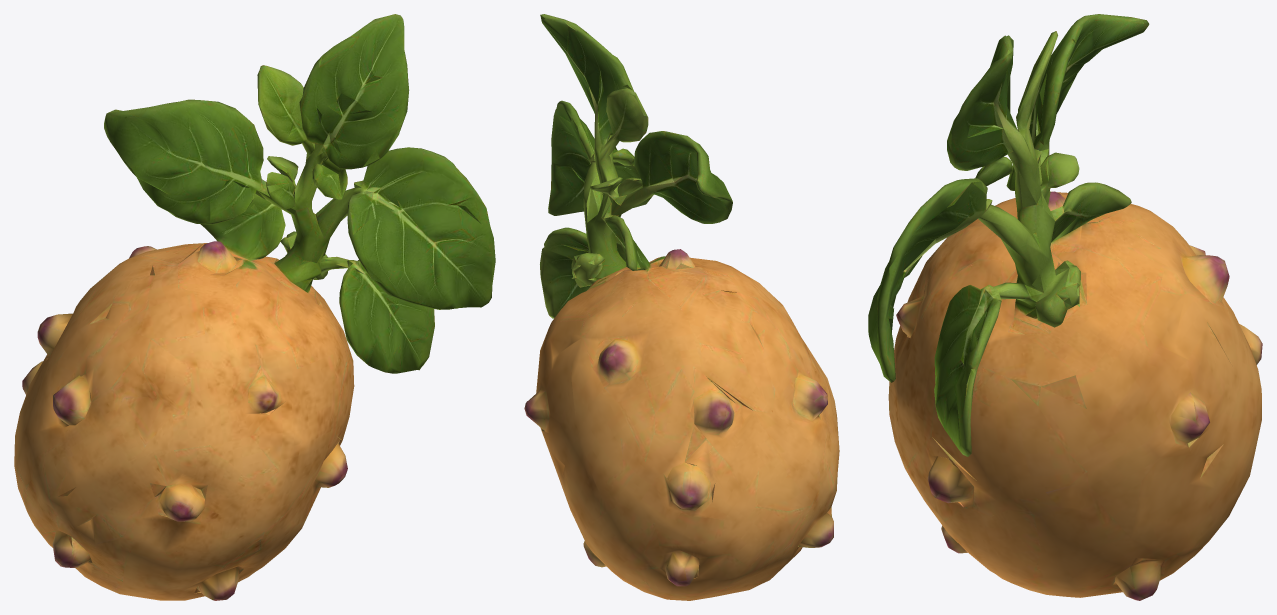
File: potato-crop-c047.glb
3 renders of one model, left to right at view 1: azimuth 30°, elevation 25°; view 2: azimuth 150°, elevation 25°; view 3: azimuth 270°, elevation 25°, orthographic. The views are drawn at different scales.
Visible parts, largest first — view 1: Mesh_0; view 2: Mesh_0; view 3: Mesh_0.
Part boxes in pixels (x1,y1,x2,y2): Mesh_0: (14, 14, 495, 600); Mesh_0: (524, 14, 839, 600); Mesh_0: (868, 14, 1262, 600).
Size of the model in its own units: 0.18 by 0.2512 by 0.1393.
1 material, 1 textured.
